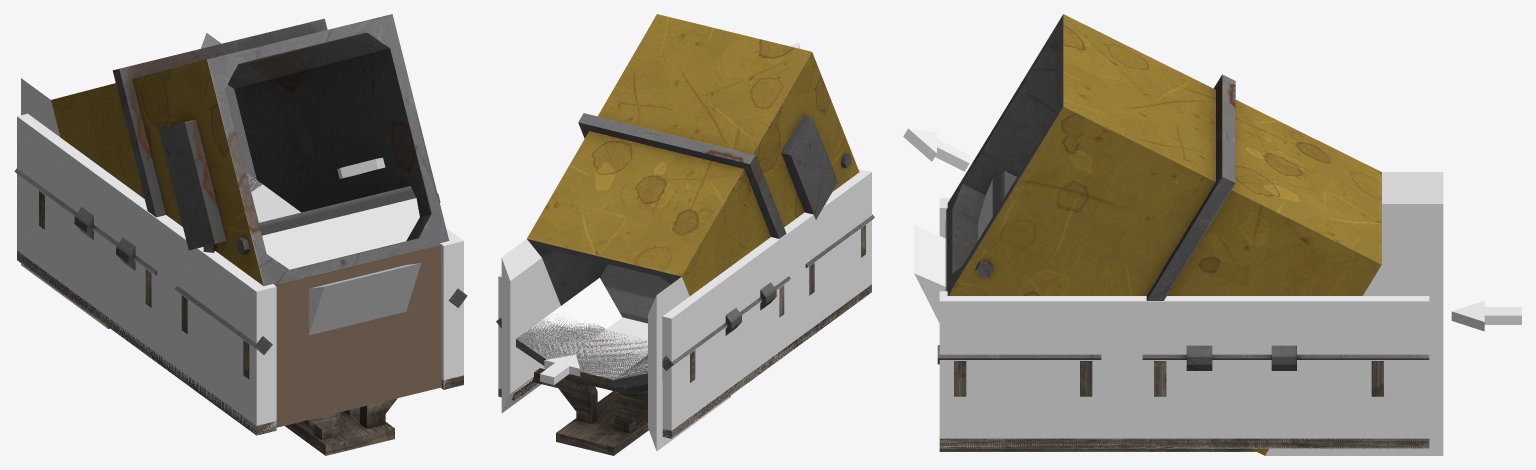
File: ConveyorCannon.glb
The picture shows the model from 3 angles, left to right: view 1: azimuth 30°, elevation 25°; view 2: azimuth 150°, elevation 25°; view 3: azimuth 270°, elevation 25°; orthographic projection. The views are drawn at different scales.
Parts seen in each view (by area): view 1: ConveyorCannon, ConveyorCannon_Col, ghostarrow; view 2: ConveyorCannon, ConveyorCannon_Col, ghostarrow (1); view 3: ConveyorCannon, ConveyorCannon_Col, ghostarrow (1), ghostarrow.
Boxes of the visible parts, box(x1,y1,x2,y2) form: ConveyorCannon: box(14, 14, 467, 455); ConveyorCannon_Col: box(17, 33, 463, 434); ghostarrow: box(337, 157, 385, 178); ConveyorCannon: box(496, 14, 874, 455); ConveyorCannon_Col: box(498, 169, 871, 450); ghostarrow (1): box(540, 354, 580, 384); ConveyorCannon: box(937, 14, 1429, 455); ConveyorCannon_Col: box(914, 172, 1443, 455); ghostarrow (1): box(1451, 301, 1521, 331); ghostarrow: box(903, 128, 969, 171).
Bounding box in the file's own units: 1.07 × 1.69 × 2.53.
Materials: 6 (4 with a texture image).
